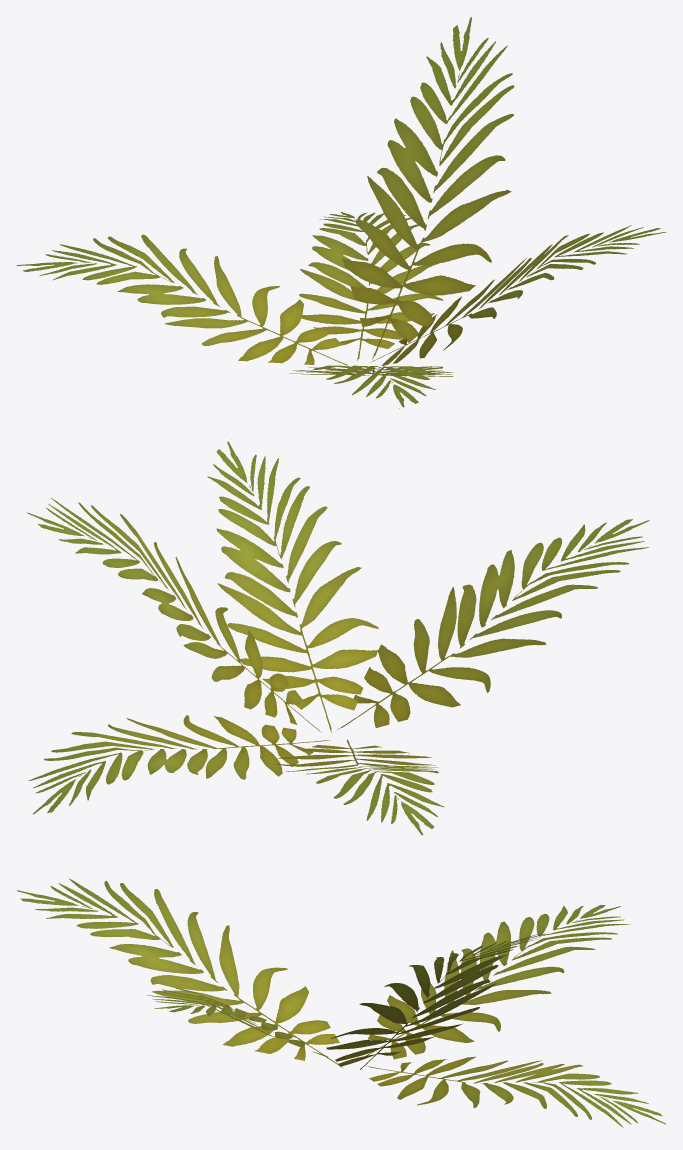
The model's file is fern 02_lod2.obj.
3 views of the same model, one above another, from view 1: azimuth 30°, elevation 25°; view 2: azimuth 150°, elevation 25°; view 3: azimuth 270°, elevation 25° (orthographic). The views are drawn at different scales.
Parts seen in each view (by area): view 1: tree; view 2: tree; view 3: tree.
Boxes of the visible parts, left/top/right/bottom form: tree: left=17, top=17, right=666, bottom=408; tree: left=27, top=439, right=649, bottom=835; tree: left=17, top=878, right=666, bottom=1127.
Bounding box in the file's own units: 135 × 70.28 × 176.
